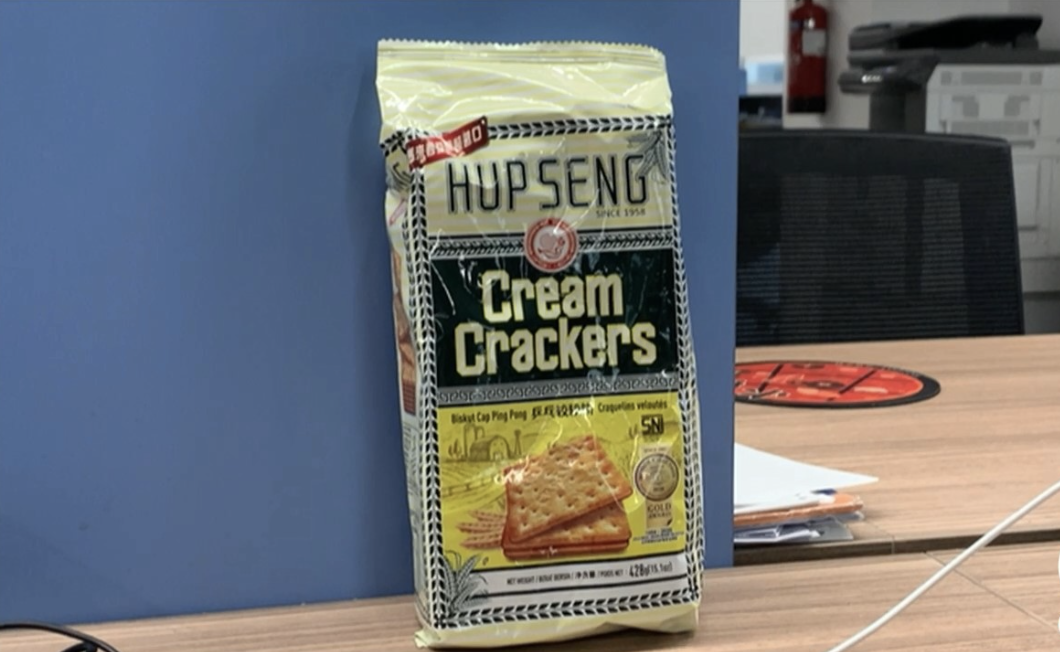crackers_450g: (418, 119, 699, 604)
